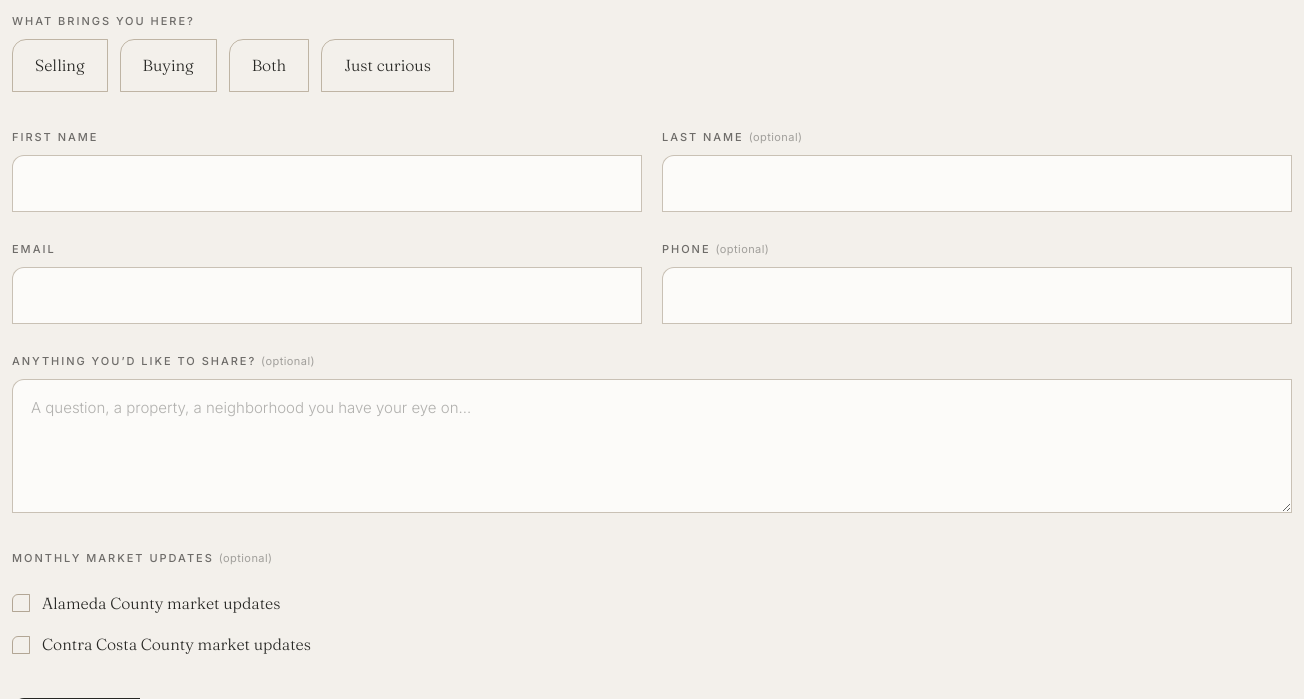
ContactForm › clicking Selling chip applies sel class and shows timeframe section
Click the button "Selling" at coordinates (60, 65), box left=12, top=39, right=108, bottom=92
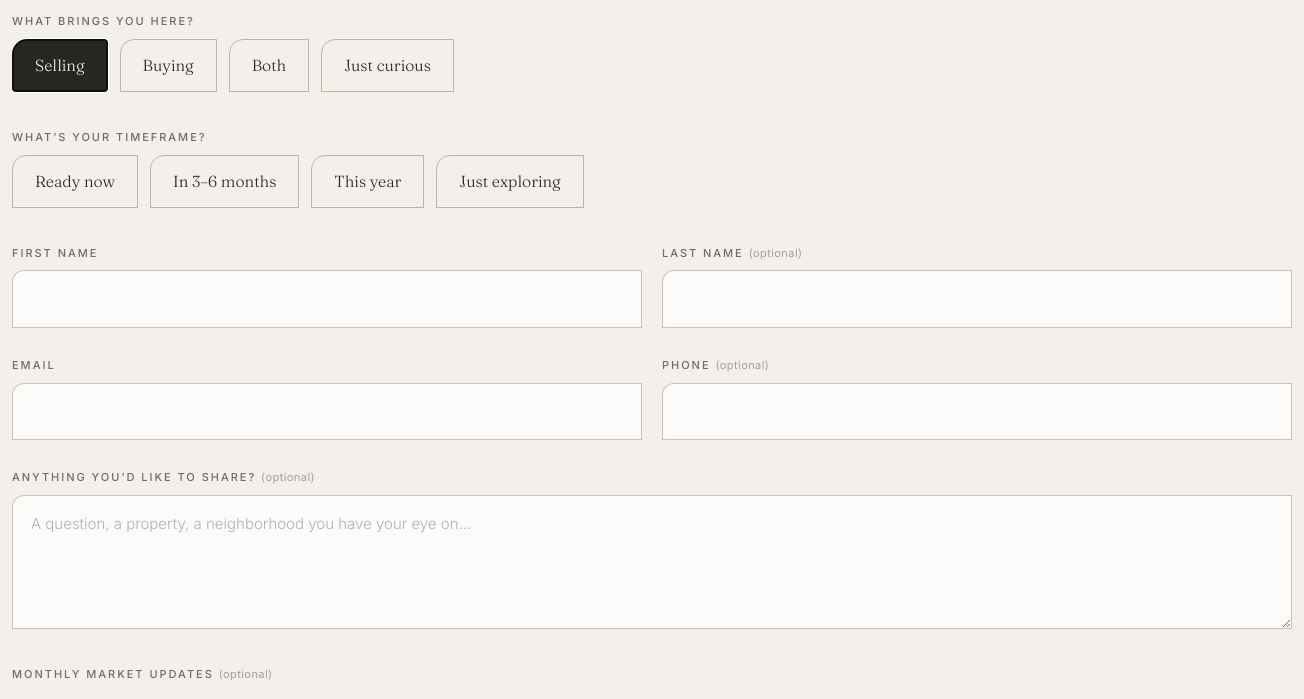
Expected: the text "What’s your timeframe?" is shown, left=12, top=130, right=206, bottom=144
